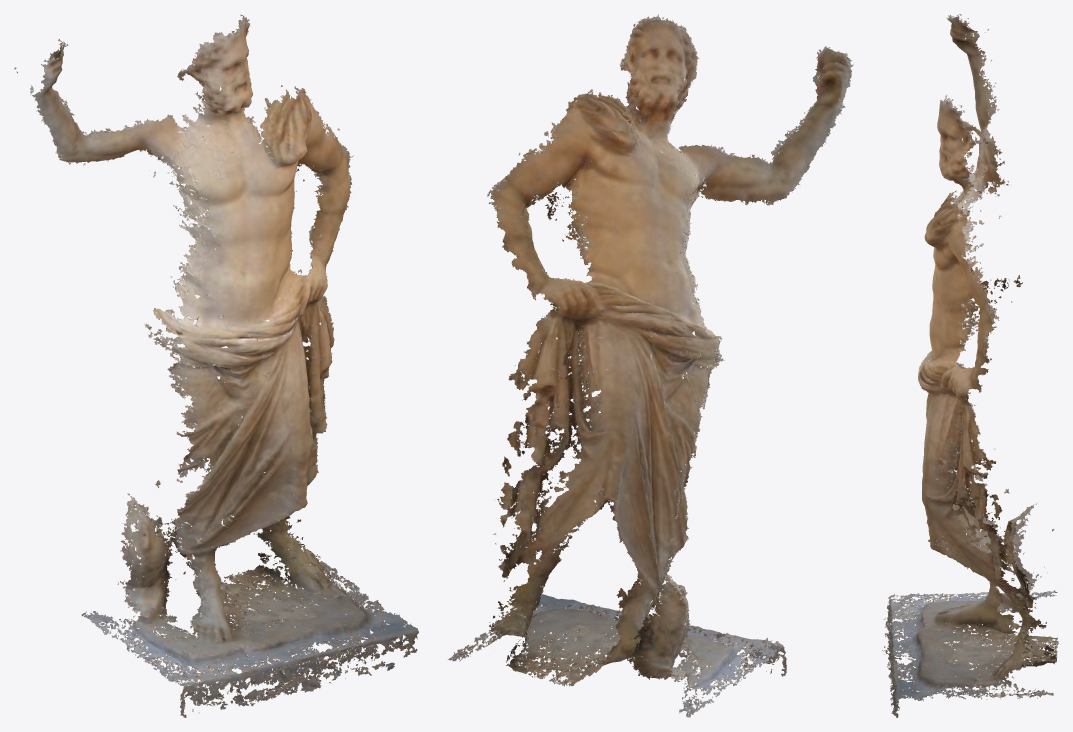
The model's file is sf_god_poseidon.glb.
3 views of the same model, side by side, from view 1: azimuth 30°, elevation 25°; view 2: azimuth 150°, elevation 25°; view 3: azimuth 270°, elevation 25° (orthographic). The views are drawn at different scales.
Visible parts, largest first — view 1: Object_3, Object_2; view 2: Object_2, Object_3; view 3: Object_2, Object_3.
Part boxes in pixels (x1,y1,x2,y2): Object_3: (14, 14, 302, 717); Object_2: (149, 58, 418, 692); Object_2: (448, 58, 734, 684); Object_3: (562, 14, 853, 717); Object_2: (887, 132, 1058, 717); Object_3: (882, 14, 1058, 675).
Size of the model in its own units: 14.97 by 27.48 by 7.57.
Materials: 1 (1 with a texture image).
